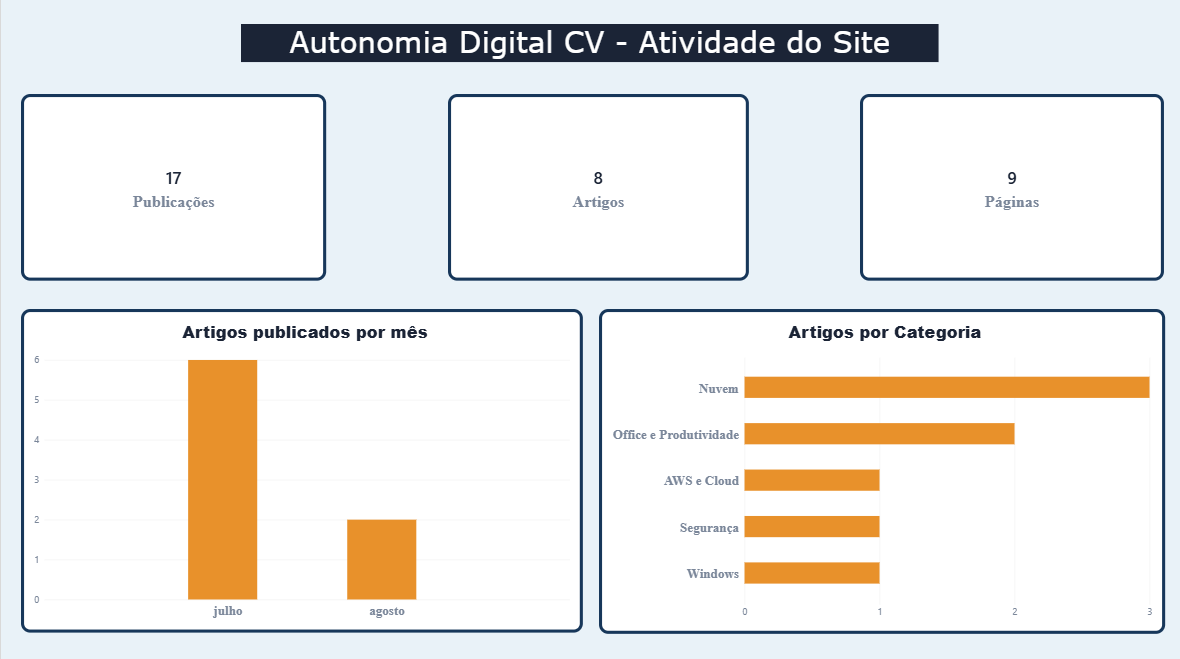

What the dashboard file says about the page in this screenshot:
{"tool":"powerbi","page":{"name":"Página 1","canvas":[1920,1080],"ordinal":0},"visuals":[{"type":"card","fields":{"Values":["CountNonNull(dados_site.Titulo)"]},"box":[32.9,152.9,497.4,303.9],"z":0},{"type":"card","fields":{"Values":["CountNonNull(dados_site.Tipo)"]},"box":[727.7,152.9,489.7,303.9],"z":1000},{"type":"card","fields":{"Values":["CountNonNull(dados_site.Tipo)"]},"box":[1399.4,152.9,495.5,303.9],"z":2000},{"type":"columnChart","title":"Artigos publicados por mês","fields":{"Category":["dados_site.Mes"],"Y":["CountNonNull(dados_site.Titulo)"]},"box":[32.7,502.5,915,527.1],"z":3000},{"type":"barChart","title":"Artigos por Categoria","fields":{"Category":["dados_site.Categoria"],"Y":["CountNonNull(dados_site.Titulo)"]},"box":[973.9,502.5,921.5,528.7],"z":3001},{"type":"textbox","box":[391,38.7,1136.1,61.9],"z":3002}]}

Visuals, with their boxes in screenshot pixels (x1, y1, x2, y2), scaled from the page's 1920x1080 canvas onto the 1180x659 screenshot:
card - CountNonNull(dados_site.Titulo): <box>20,93,326,279</box>
card - CountNonNull(dados_site.Tipo): <box>447,93,748,279</box>
card - CountNonNull(dados_site.Tipo): <box>860,93,1165,279</box>
"Artigos publicados por mês" columnChart: <box>20,307,582,628</box>
"Artigos por Categoria" barChart: <box>599,307,1165,629</box>
textbox: <box>240,24,939,61</box>
